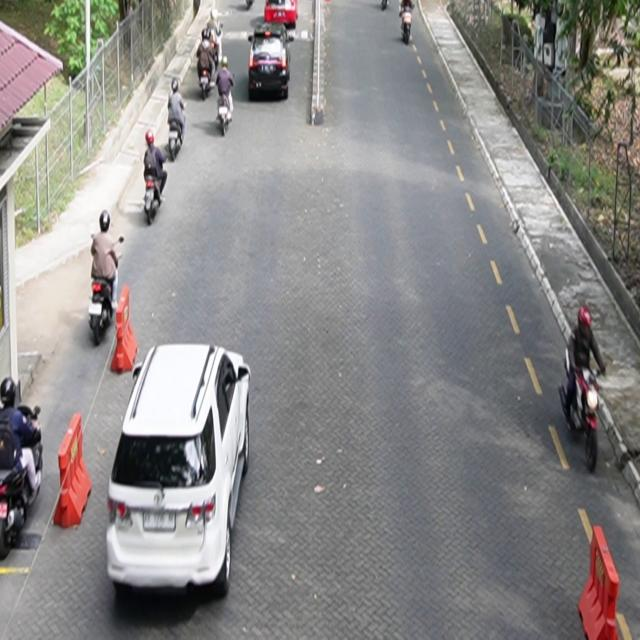car: (107, 343, 252, 599), (248, 22, 294, 101)
